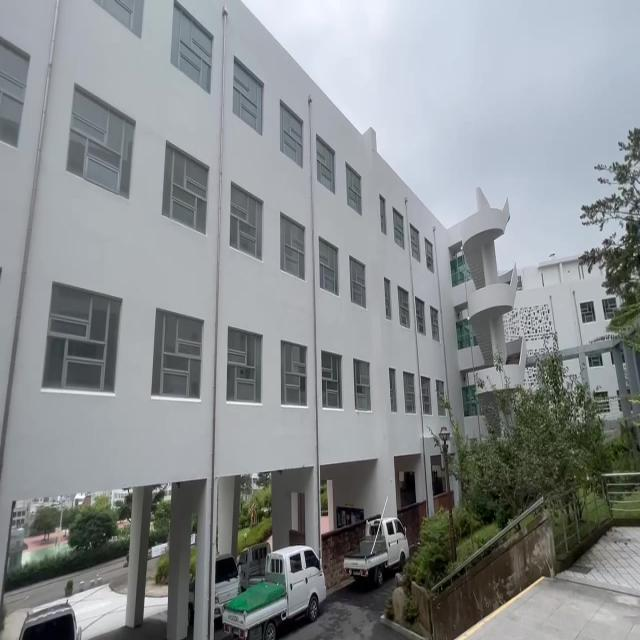building: (16, 18, 422, 462)
